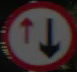Two way: (10, 3, 67, 62)
